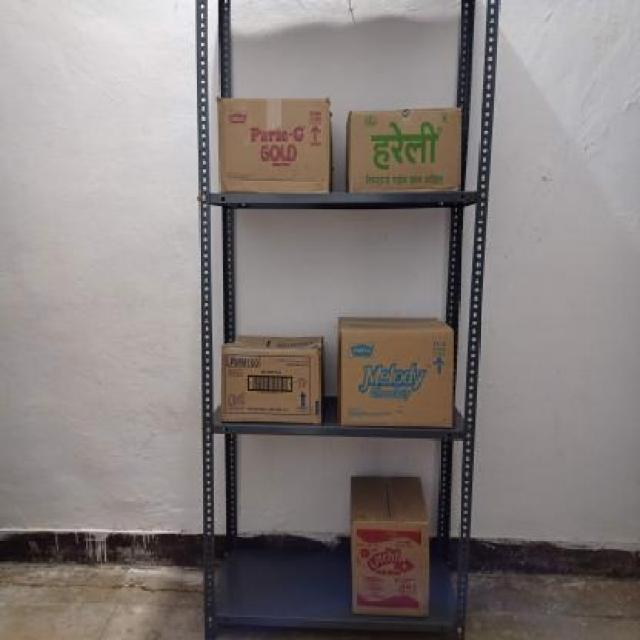box: (218, 96, 334, 196), (337, 330, 455, 427), (348, 109, 463, 195), (219, 346, 319, 426), (350, 518, 430, 614)
